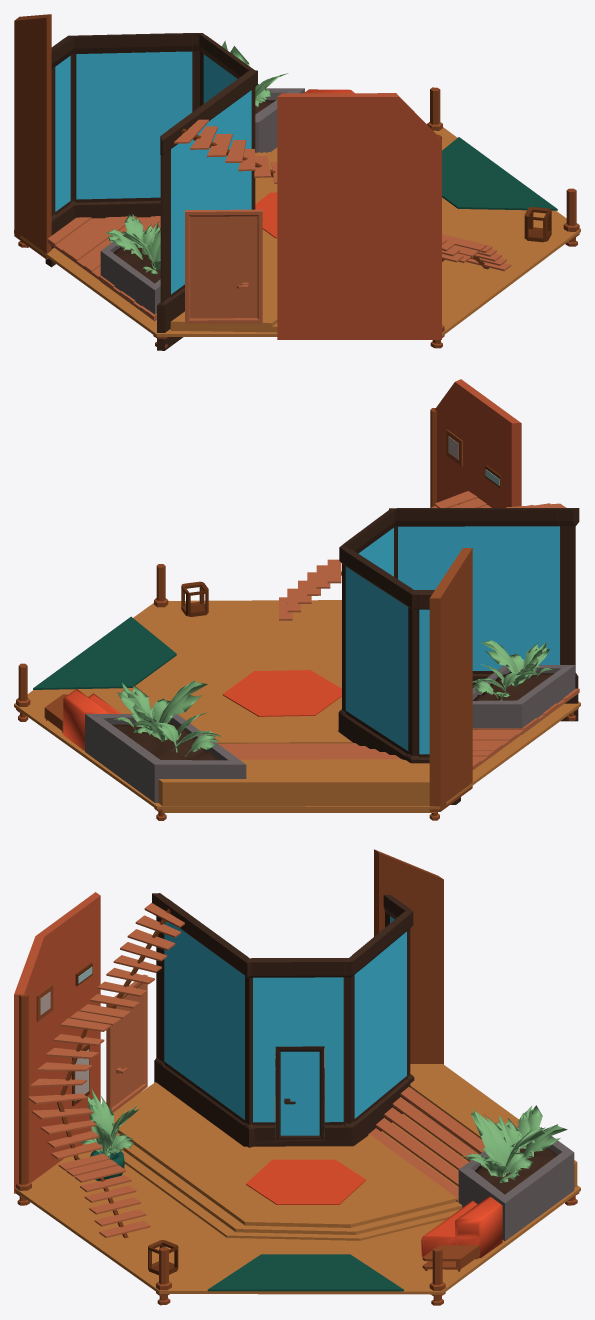
Rendered from MDL_Whole_Entrance_01.fbx.
The picture shows the model from 3 angles, top to bottom: view 1: azimuth 30°, elevation 25°; view 2: azimuth 150°, elevation 25°; view 3: azimuth 270°, elevation 25°; orthographic projection.
Parts seen in each view (by area): view 1: MDL_Entrance_Wall_01, MDL_Entrance_Glass_01.003, MDL_Entrance_Comservatory_01, MDL_Entrance_Base_01, MDL_Entrance_Door_01, MDL_Entrance_Wall_02, MDL_Entrance_Glass_01.001, MDL_Entrance_Carpet_01, MDL_Entrance_Steps_01, MDL_Entrance_Planks_02, MDL_Entrance_Stairs_01, MDL_Entrance_Glass_01.004 (+9 smaller); view 2: MDL_Entrance_Base_01, MDL_Entrance_Glass_01.001, MDL_Entrance_Comservatory_01, MDL_Entrance_Stairblock_01, MDL_Entrance_Wall_02, MDL_Entrance_Stairs_01, MDL_Entrance_Glass_01.003, MDL_Entrance_Wall_01, MDL_Entrance_Stonepot_01, MDL_Entrance_Carpet_01, MDL_Entrance_Carpet_02, MDL_Entrance_Stonepot_02 (+12 smaller); view 3: MDL_Entrance_Stairs_01, MDL_Entrance_Base_01, MDL_Entrance_Comservatory_01, MDL_Entrance_Wall_01, MDL_Entrance_Glass_01.001, MDL_Entrance_Steps_01, MDL_Entrance_Glass_01.002, MDL_Entrance_Wall_02, MDL_Entrance_Glass_01.003, MDL_Entrance_Planks_01, MDL_Entrance_Carpet_01, MDL_Entrance_Stonepot_01 (+13 smaller).
Boxes of the visible parts, x1,y1,x2,y2 form: MDL_Entrance_Wall_01: (277,93,441,339); MDL_Entrance_Glass_01.003: (76,51,192,199); MDL_Entrance_Comservatory_01: (45,33,257,350); MDL_Entrance_Base_01: (14,127,580,336); MDL_Entrance_Door_01: (185,209,262,323); MDL_Entrance_Wall_02: (14,14,51,259); MDL_Entrance_Glass_01.001: (171,90,251,294); MDL_Entrance_Carpet_01: (442,137,557,210); MDL_Entrance_Steps_01: (174,119,511,271); MDL_Entrance_Planks_02: (47,216,160,320); MDL_Entrance_Stairs_01: (170,152,277,332); MDL_Entrance_Glass_01.004: (55,56,70,211); MDL_Entrance_Base_01: (14,600,580,809); MDL_Entrance_Glass_01.001: (398,526,559,670); MDL_Entrance_Comservatory_01: (338,508,579,804); MDL_Entrance_Stairblock_01: (158,759,436,812); MDL_Entrance_Wall_02: (429,548,472,811); MDL_Entrance_Stairs_01: (158,650,352,743); MDL_Entrance_Glass_01.003: (345,566,408,750); MDL_Entrance_Wall_01: (435,379,521,507); MDL_Entrance_Stonepot_01: (85,714,246,802); MDL_Entrance_Carpet_01: (33,616,176,689); MDL_Entrance_Carpet_02: (222,670,341,716); MDL_Entrance_Stonepot_02: (472,665,575,734); MDL_Entrance_Stairs_01: (92,1082,462,1240); MDL_Entrance_Base_01: (15,1114,580,1294); MDL_Entrance_Comservatory_01: (152,893,414,1147); MDL_Entrance_Wall_01: (14,892,100,1193); MDL_Entrance_Glass_01.001: (164,921,244,1119); MDL_Entrance_Steps_01: (29,903,184,1237); MDL_Entrance_Glass_01.002: (253,977,343,1122); MDL_Entrance_Wall_02: (374,849,443,1064); MDL_Entrance_Glass_01.003: (354,931,406,1118); MDL_Entrance_Planks_01: (367,1087,485,1202); MDL_Entrance_Carpet_01: (207,1254,403,1291); MDL_Entrance_Stonepot_01: (458,1126,574,1241).
Bounding box in the file's own units: 999 × 566 × 1146.
